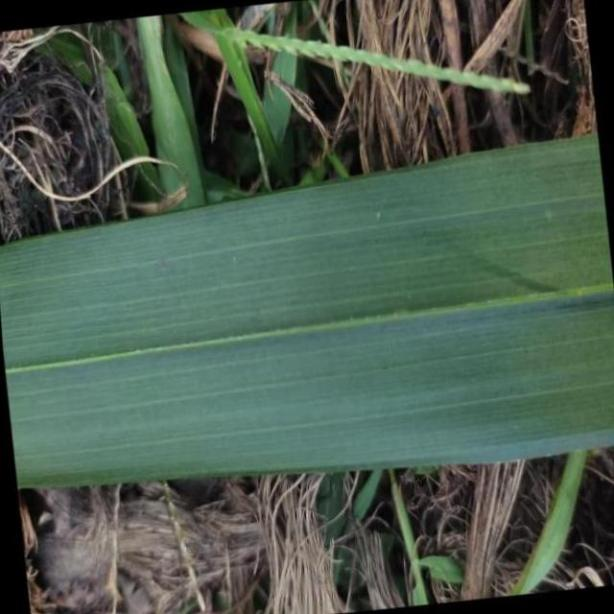Healthy: (6, 134, 614, 491)
